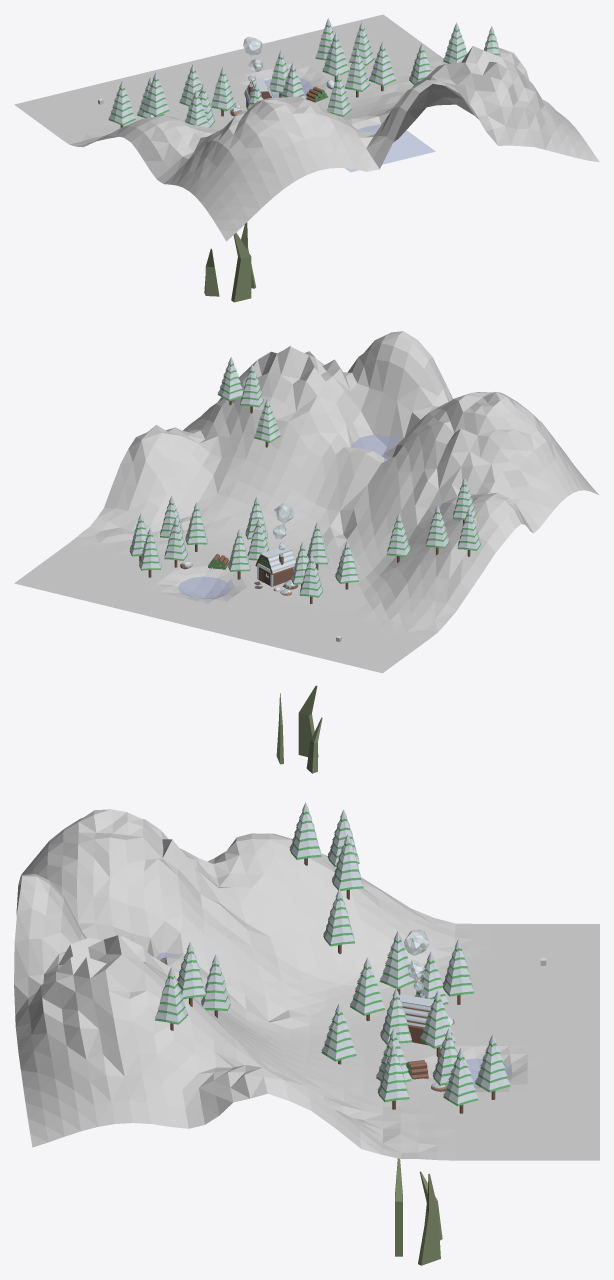
File: snow-playable.dae
3 renders of one model, top to bottom at view 1: azimuth 30°, elevation 25°; view 2: azimuth 150°, elevation 25°; view 3: azimuth 270°, elevation 25°, orthographic. The views are drawn at different scales.
Visible parts, largest first — view 1: Plane, grass, Plane_003, Cylinder_017, Cylinder_012, Cylinder_015, Cylinder_011, Cylinder_002, Cylinder_018, Cylinder_009, Cylinder_004, Cylinder_016 (+6 smaller); view 2: Plane, grass, Plane_001, Cylinder_005, Plane_003, Cylinder_006, Cylinder_001, Cylinder_012, Cylinder_015, Cylinder_003, Cylinder_010, Cylinder_004 (+4 smaller); view 3: Plane, grass, Cylinder_014, Cylinder_016, Cylinder_000, Cylinder_001, Cylinder_009, Cylinder_006, Cylinder_017, Cylinder_010, Cylinder_013, Cylinder_003 (+8 smaller).
Part boxes in pixels (left/top/right/bottom): Plane: left=14, top=14, right=599, bottom=241; grass: left=204, top=222, right=255, bottom=302; Plane_003: left=345, top=124, right=435, bottom=172; Cylinder_017: left=369, top=42, right=395, bottom=91; Cylinder_012: left=108, top=81, right=135, bottom=127; Cylinder_015: left=322, top=33, right=349, bottom=81; Cylinder_011: left=142, top=72, right=169, bottom=116; Cylinder_002: left=210, top=67, right=235, bottom=116; Cylinder_018: left=344, top=48, right=370, bottom=97; Cylinder_009: left=326, top=73, right=351, bottom=116; Cylinder_004: left=443, top=22, right=467, bottom=63; Cylinder_016: left=349, top=22, right=374, bottom=65; Plane: left=14, top=331, right=599, bottom=673; grass: left=276, top=685, right=322, bottom=773; Plane_001: left=178, top=576, right=230, bottom=599; Cylinder_005: left=254, top=398, right=280, bottom=447; Plane_003: left=351, top=434, right=401, bottom=461; Cylinder_006: left=217, top=357, right=242, bottom=405; Cylinder_001: left=335, top=540, right=358, bottom=589; Cylinder_012: left=457, top=507, right=480, bottom=556; Cylinder_015: left=164, top=517, right=187, bottom=567; Cylinder_003: left=299, top=554, right=323, bottom=603; Cylinder_010: left=387, top=513, right=410, bottom=562; Cylinder_004: left=240, top=364, right=263, bottom=413; Plane: left=14, top=809, right=599, bottom=1160; grass: left=395, top=1158, right=442, bottom=1265; Cylinder_014: left=475, top=1034, right=510, bottom=1099; Cylinder_016: left=443, top=1048, right=478, bottom=1113; Cylinder_000: left=350, top=957, right=385, bottom=1020; Cylinder_001: left=379, top=931, right=415, bottom=994; Cylinder_009: left=321, top=1003, right=356, bottom=1064; Cylinder_006: left=155, top=967, right=188, bottom=1030; Cylinder_017: left=377, top=1044, right=409, bottom=1109; Cylinder_010: left=323, top=889, right=354, bottom=954; Cylinder_013: left=332, top=834, right=363, bottom=899; Cylinder_003: left=442, top=939, right=474, bottom=1004.
Size of the model in its own units: 19.27 by 19.33 by 14.8.
